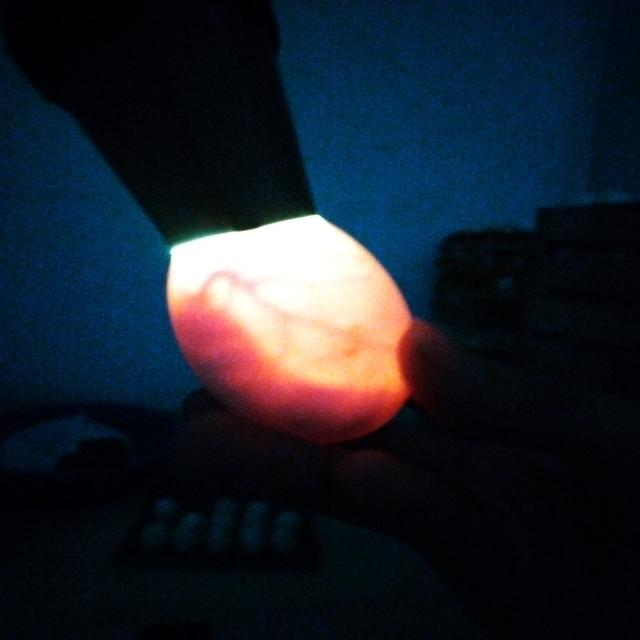Embriao: (171, 298, 406, 443)
